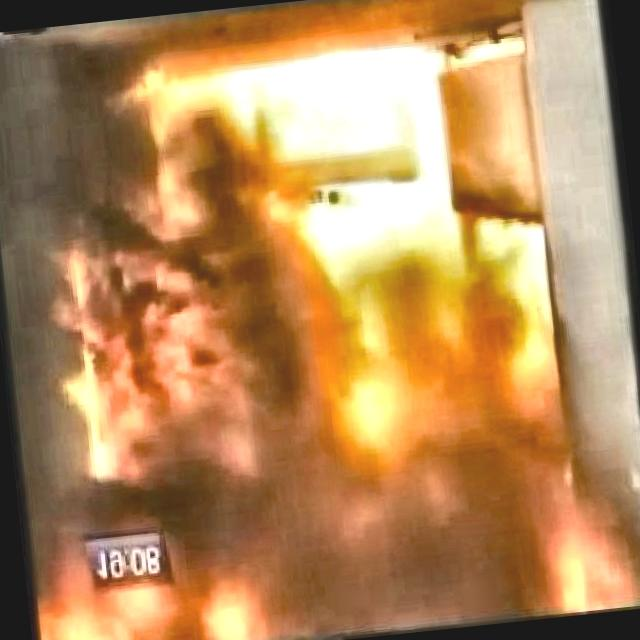fire: (0, 9, 582, 640)
